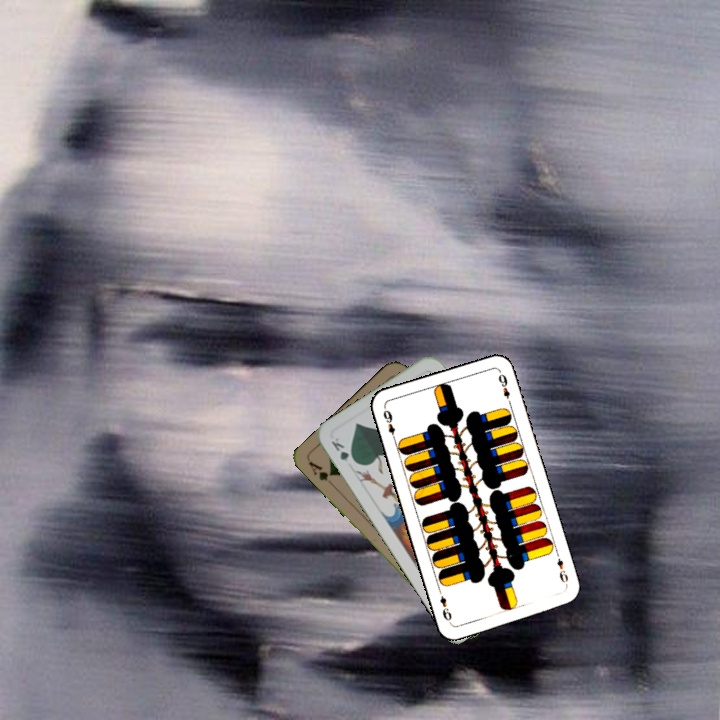E9: (379, 406, 399, 444), (552, 548, 571, 588)
GA: (304, 457, 335, 484)
GK: (327, 433, 359, 466)
